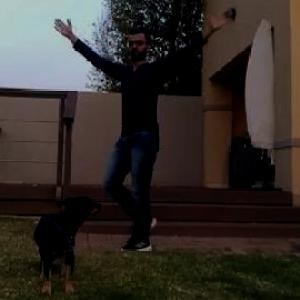takeoff: (50, 10, 237, 260)
